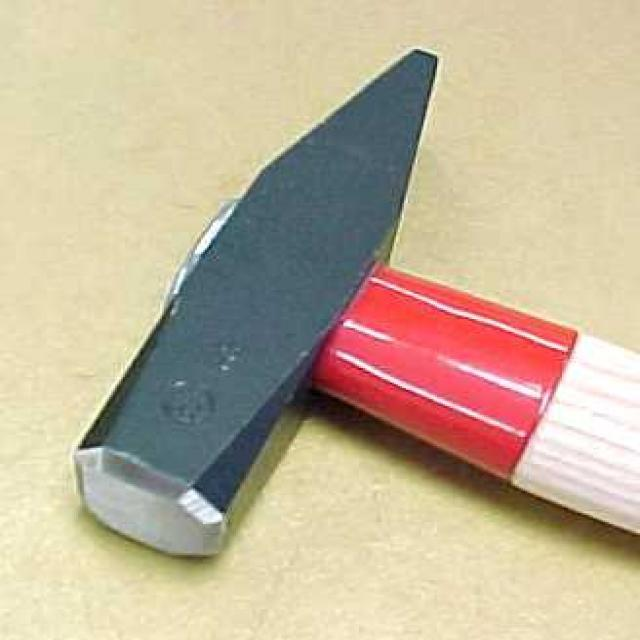hammer: (62, 36, 640, 571)
